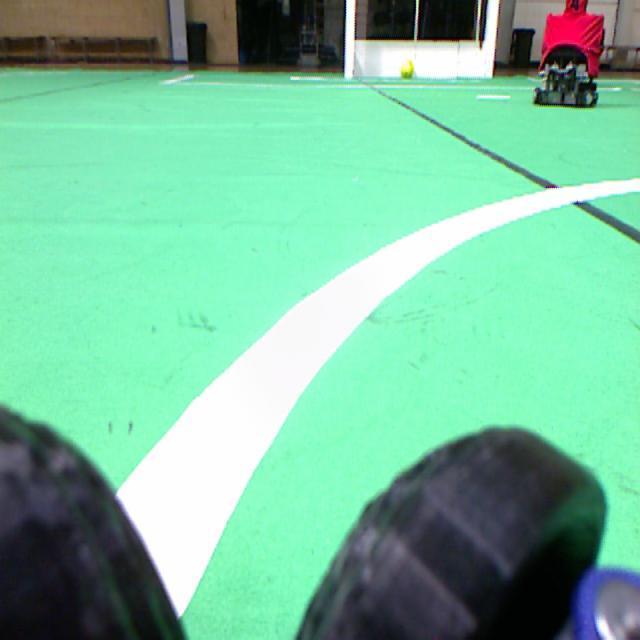ball: (400, 59, 413, 77)
goal: (483, 0, 498, 76), (344, 0, 355, 77)
